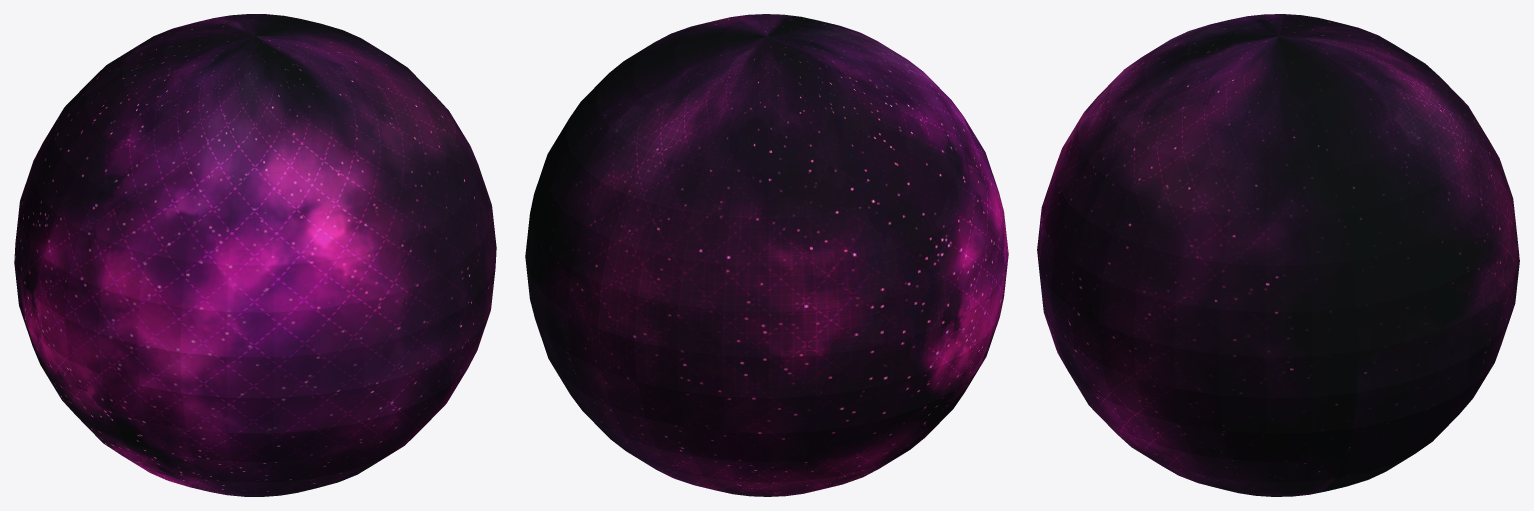
Rendered from light_gun_arcade_free_low_poly.glb.
3 views of the same model, side by side, from view 1: azimuth 30°, elevation 25°; view 2: azimuth 150°, elevation 25°; view 3: azimuth 270°, elevation 25° (orthographic).
Parts seen in each view (by area): view 1: Sphere_0; view 2: Sphere_0; view 3: Sphere_0.
Boxes of the visible parts, left/top/right/bottom form: Sphere_0: left=14, top=14, right=496, bottom=496; Sphere_0: left=525, top=14, right=1008, bottom=496; Sphere_0: left=1037, top=14, right=1519, bottom=496.
Size of the model in its own units: 1521 by 1523 by 1521.
Materials: 15 (15 with a texture image).
